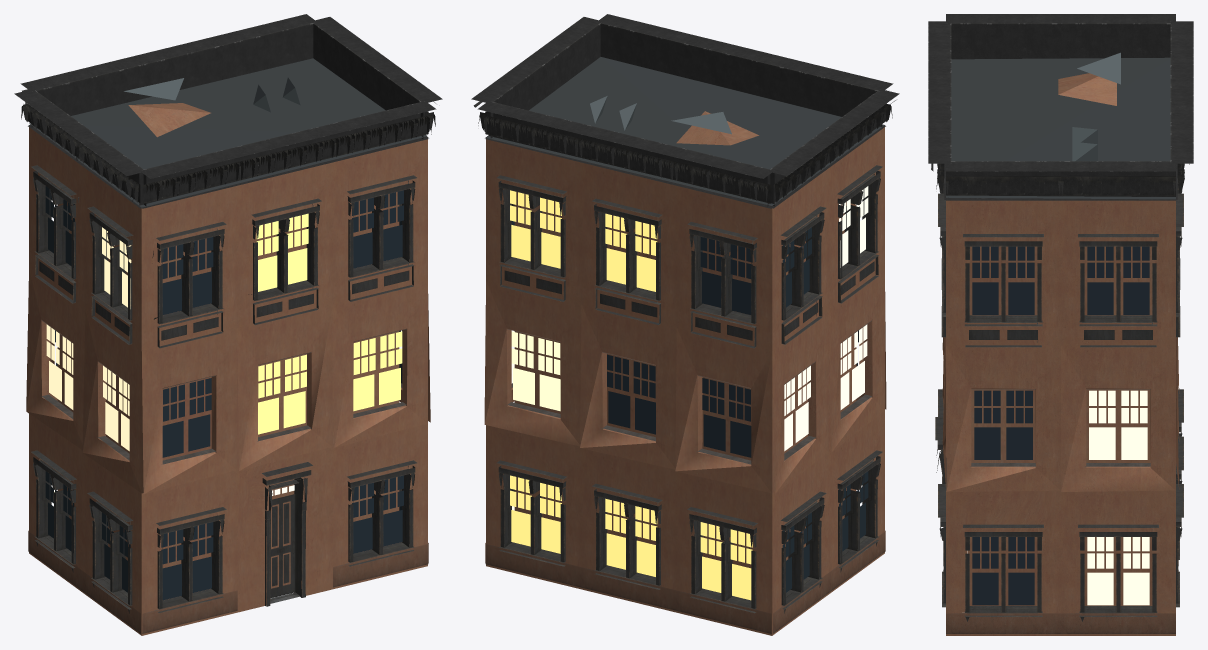
File: apartment_b.glb
3 views of the same model, side by side, from view 1: azimuth 30°, elevation 25°; view 2: azimuth 150°, elevation 25°; view 3: azimuth 270°, elevation 25° (orthographic).
Visible parts, largest first — view 1: Apartment_B; view 2: Apartment_B; view 3: Apartment_B.
Boxes of the visible parts, bbox=[...] form: Apartment_B: bbox=[14, 14, 442, 635]; Apartment_B: bbox=[471, 14, 899, 635]; Apartment_B: bbox=[928, 14, 1193, 635].
Size of the model in its own units: 6.96 by 9.8 by 4.96.
9 materials, 4 textured.
